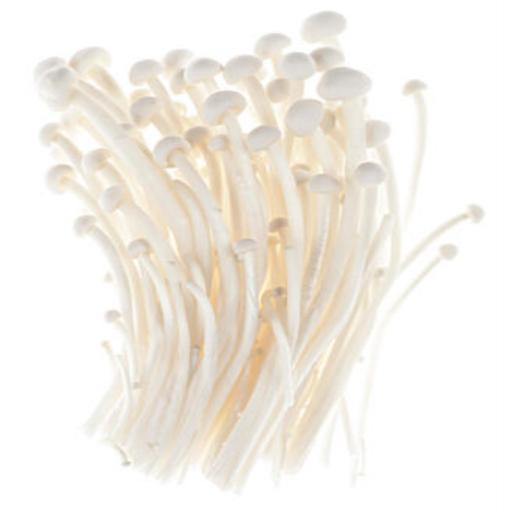Enoki Mushroom: (18, 0, 512, 512)
